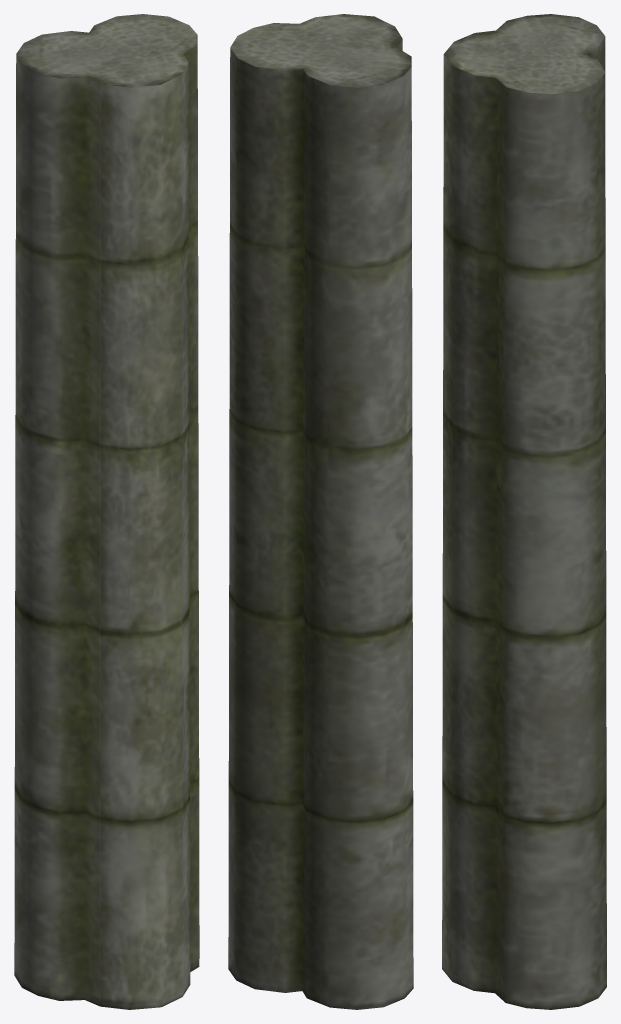
The model's file is pillar_type006.FBX.
3 views of the same model, side by side, from view 1: azimuth 30°, elevation 25°; view 2: azimuth 150°, elevation 25°; view 3: azimuth 270°, elevation 25° (orthographic).
Parts seen in each view (by area): view 1: pillar_type006; view 2: pillar_type006; view 3: pillar_type006.
Boxes of the visible parts, x1,y1,x2,y2 form: pillar_type006: (14,14,199,1009); pillar_type006: (228,14,413,1009); pillar_type006: (442,14,606,1009).
Size of the model in its own units: 136 by 710 by 116.
